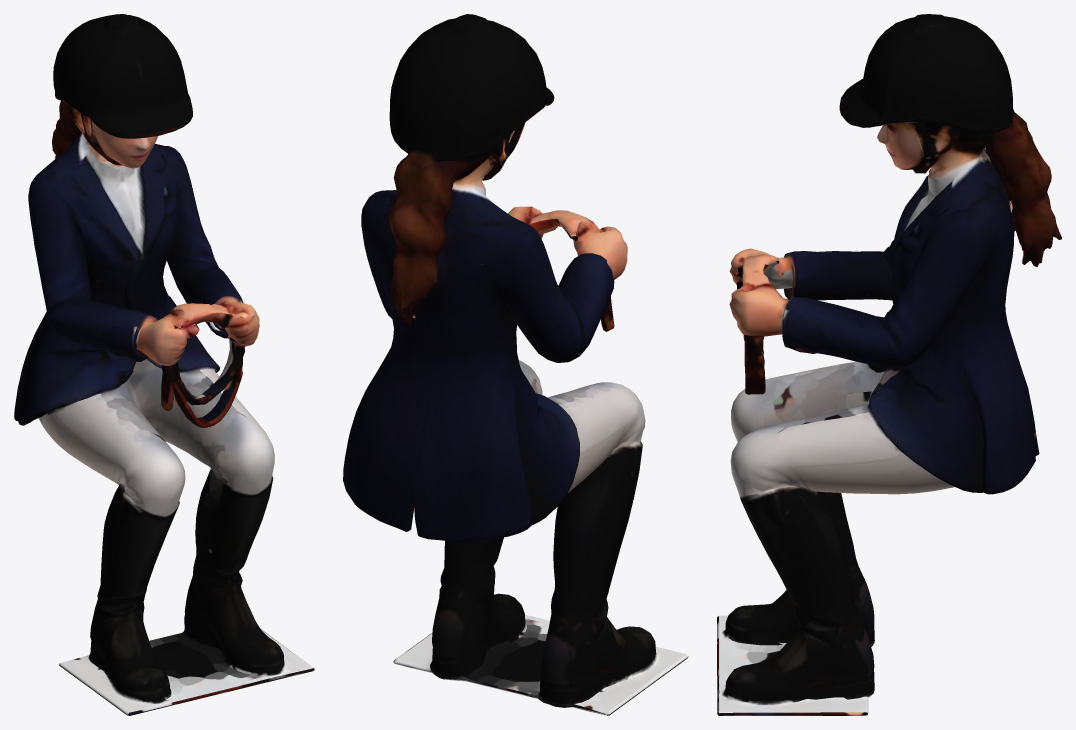
Rendered from rider_seat_textured.glb.
3 views of the same model, side by side, from view 1: azimuth 30°, elevation 25°; view 2: azimuth 150°, elevation 25°; view 3: azimuth 270°, elevation 25° (orthographic). The views are drawn at different scales.
Visible parts, largest first — view 1: temp_mesh.ply; view 2: temp_mesh.ply; view 3: temp_mesh.ply.
Boxes of the visible parts, x1=… form: temp_mesh.ply: x1=14, y1=14, x2=314, y2=715; temp_mesh.ply: x1=343, y1=14, x2=688, y2=715; temp_mesh.ply: x1=717, y1=14, x2=1061, y2=715.
Size of the model in its own units: 0.6487 by 1.99 by 0.9603.
1 material, 1 textured.
